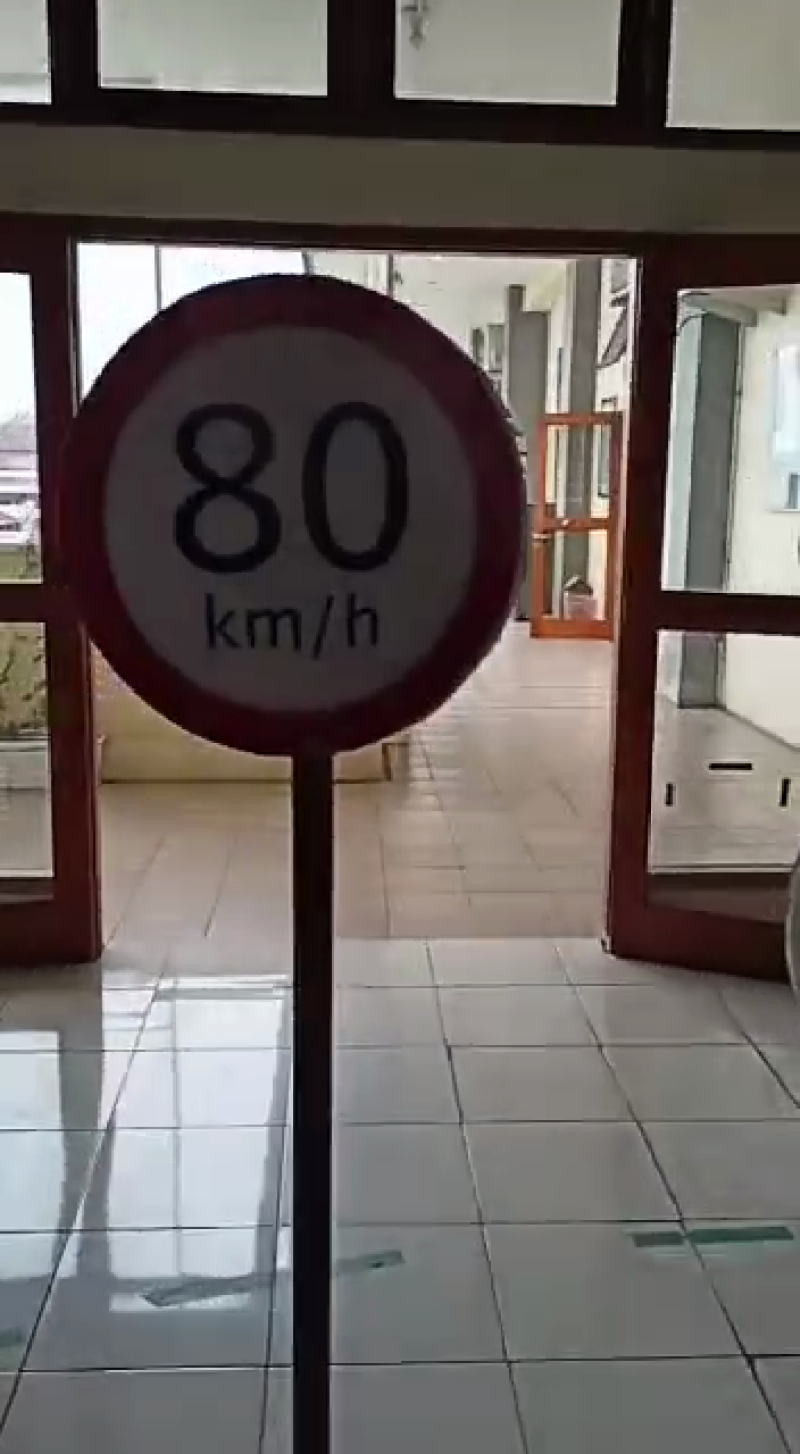batas maksimal 80kmperjam: (44, 273, 546, 764)
